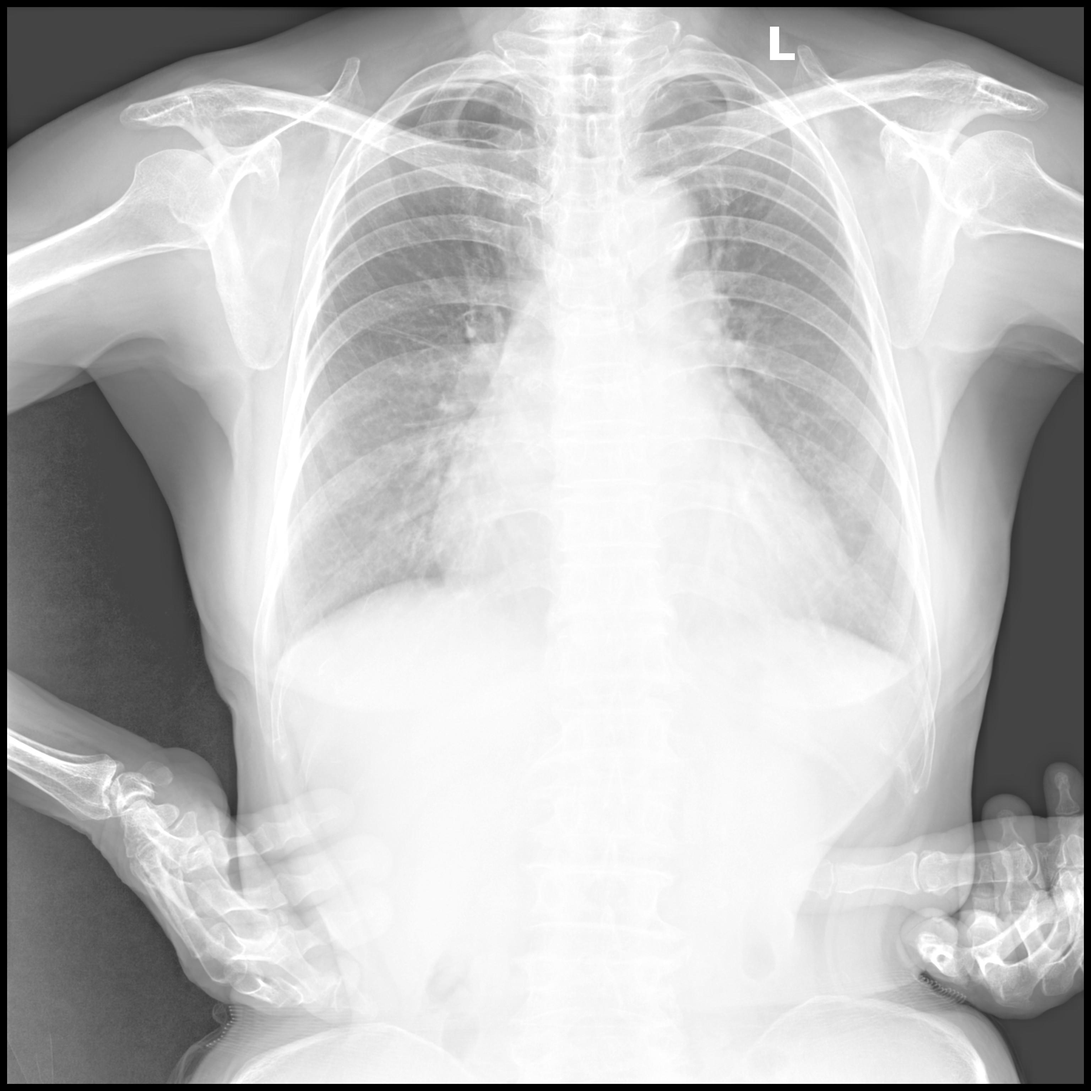Cardiomegaly: (431, 488, 849, 634)
